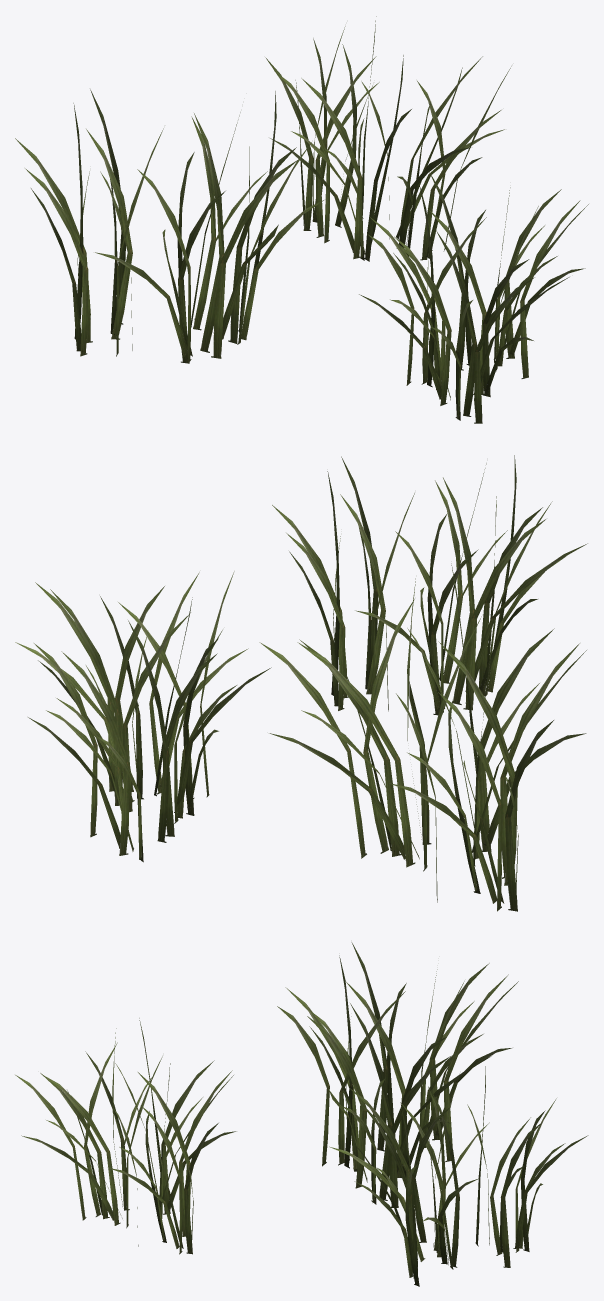
Rendered from Grass1.fbx.
3 views of the same model, one above another, from view 1: azimuth 30°, elevation 25°; view 2: azimuth 150°, elevation 25°; view 3: azimuth 270°, elevation 25° (orthographic). The views are drawn at different scales.
Parts seen in each view (by area): view 1: LV_Gnollando_Foliage_CityGrass02A_PM_KJH; view 2: LV_Gnollando_Foliage_CityGrass02A_PM_KJH; view 3: LV_Gnollando_Foliage_CityGrass02A_PM_KJH.
Part boxes in pixels (x1,y1,x2,y2): LV_Gnollando_Foliage_CityGrass02A_PM_KJH: (15,16,588,423); LV_Gnollando_Foliage_CityGrass02A_PM_KJH: (15,455,587,911); LV_Gnollando_Foliage_CityGrass02A_PM_KJH: (15,942,588,1286).
Bounding box in the file's own units: 0.4195 × 0.1894 × 0.4885.
1 material, 1 textured.
